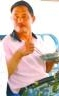boots: (0, 86, 25, 96), (0, 87, 12, 96)
hard-hat: (0, 0, 22, 10)
